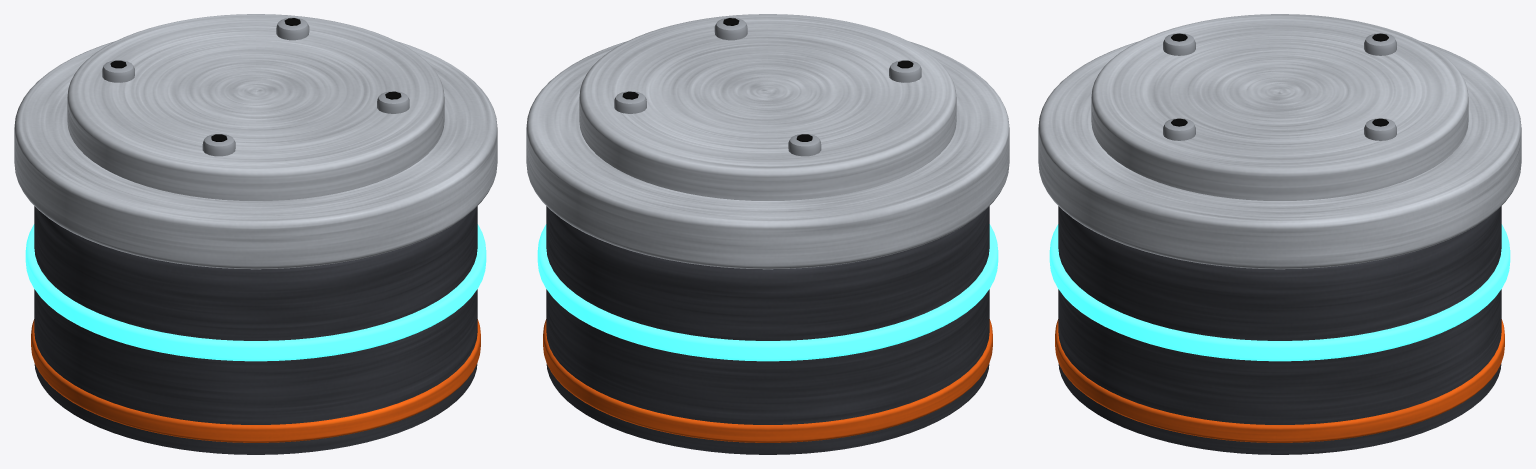
The model's file is wrist_2_link.dae.
3 renders of one model, left to right at view 1: azimuth 30°, elevation 25°; view 2: azimuth 150°, elevation 25°; view 3: azimuth 270°, elevation 25°, orthographic.
Visible parts, largest first — view 1: link_6; view 2: link_6; view 3: link_6.
Boxes of the visible parts, x1,y1,x2,y2 form: link_6: (14,14,497,454); link_6: (526,14,1009,454); link_6: (1038,14,1521,454).
Bounding box in the file's own units: 0.073 × 0.073 × 0.047.
Materials: 6 (3 with a texture image).
